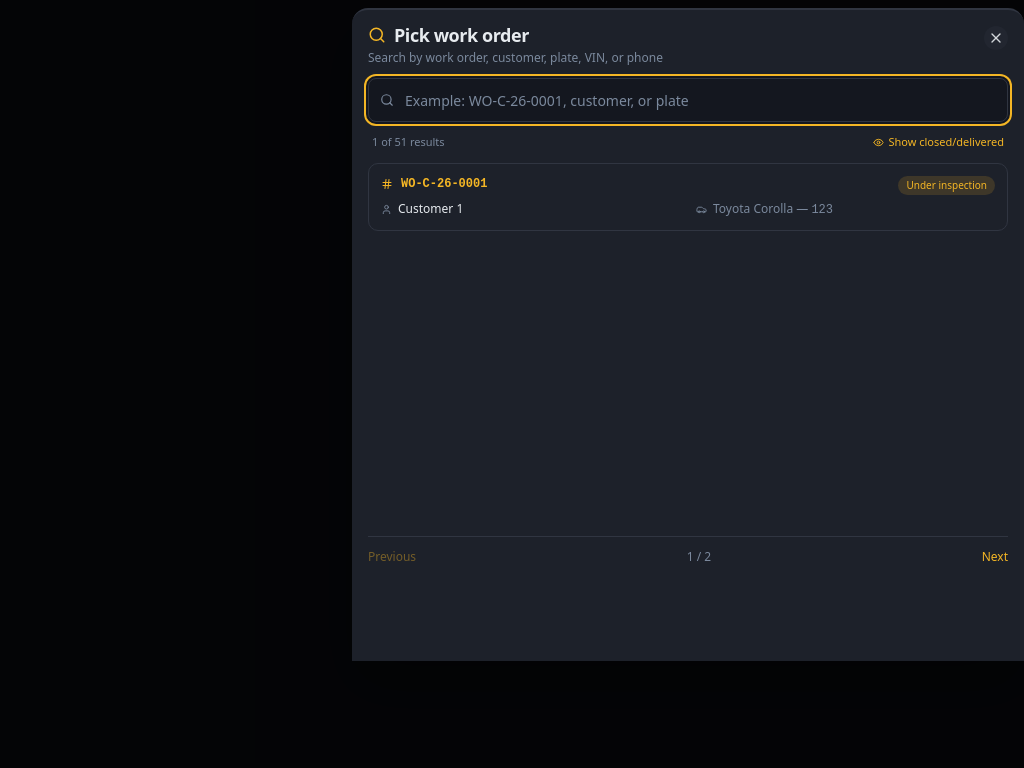
Test: work order picker cloud reads › keeps older work orders reachable through server pagination
Expected: the text "WO-C-26-0001" is shown, [401,176,487,192]
Click the button "Next".
click(995, 557)  # box [982,549,1008,565]
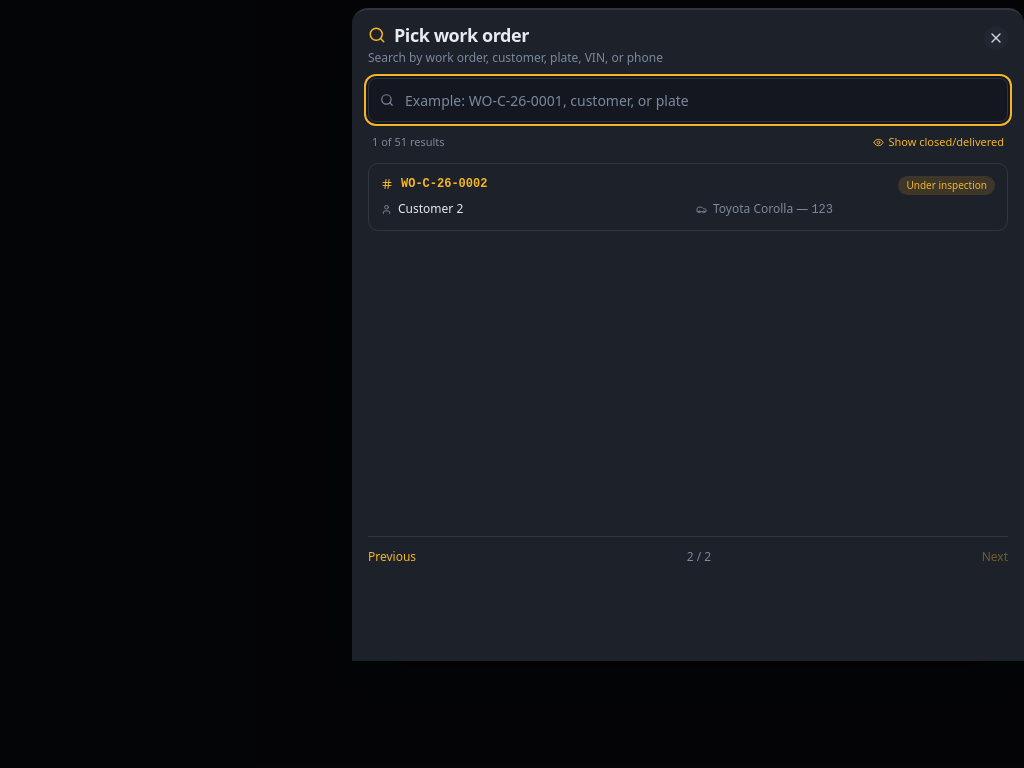
Now the text "WO-C-26-0002" is shown, box [401,176,487,192]
